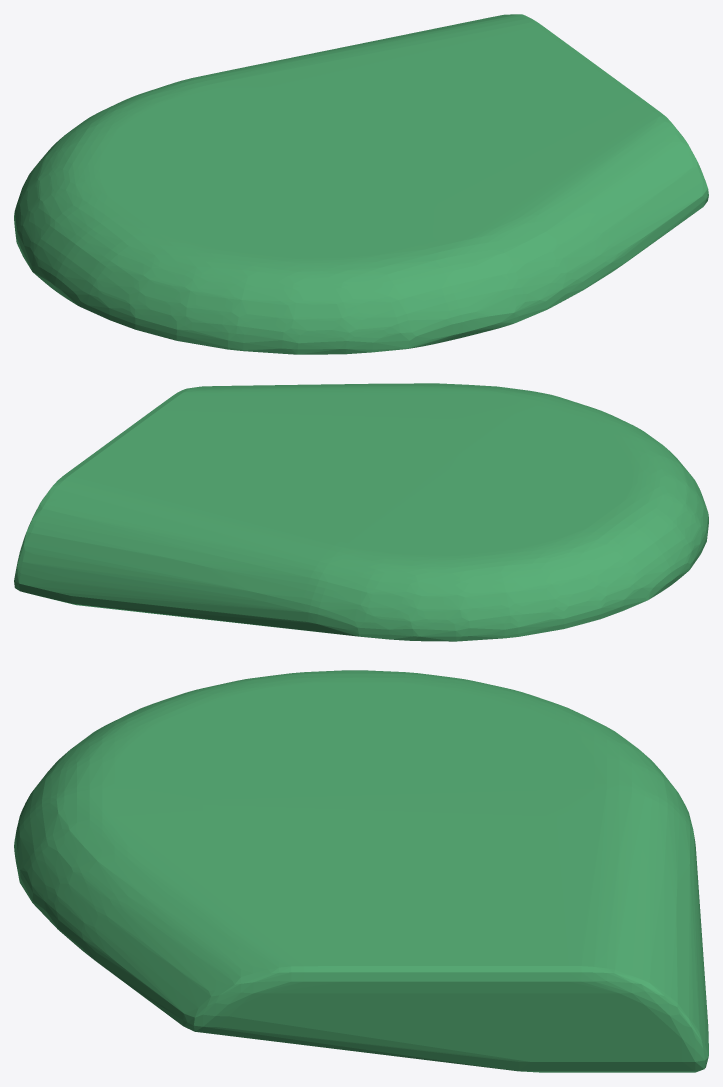
File: right_elbow_link_part_3.obj
3 renders of one model, top to bottom at view 1: azimuth 30°, elevation 25°; view 2: azimuth 150°, elevation 25°; view 3: azimuth 270°, elevation 25°, orthographic. The views are drawn at different scales.
Bounding box in the file's own units: 0.0901 × 0.0147 × 0.0816.
